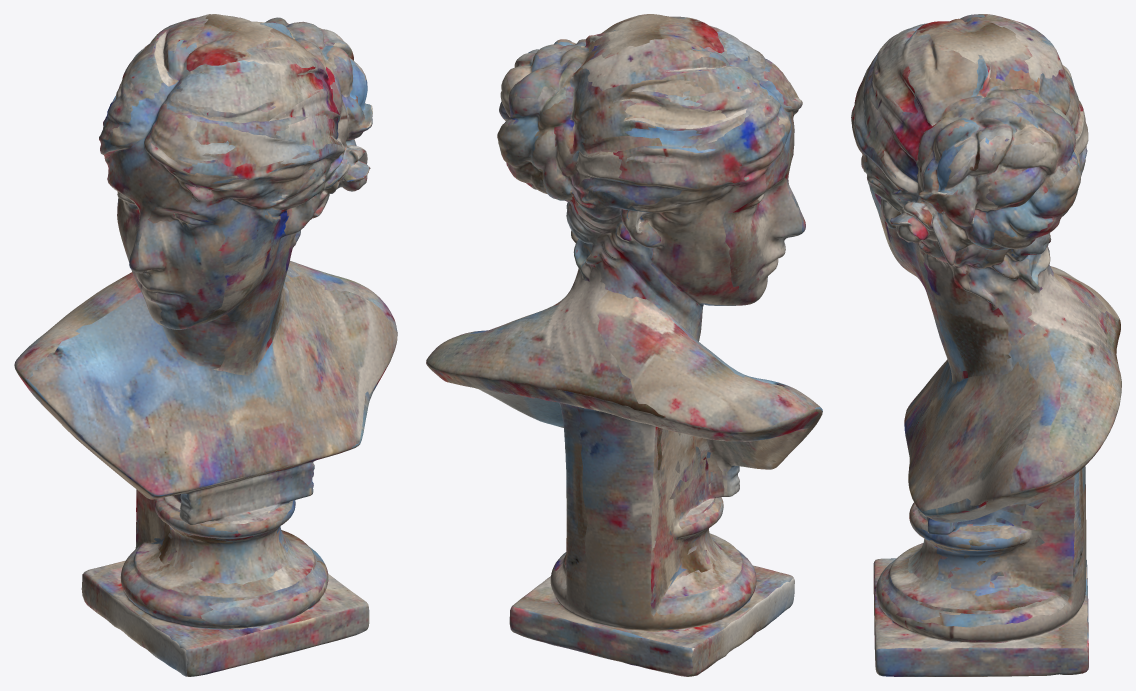
3 renders of one model, left to right at view 1: azimuth 30°, elevation 25°; view 2: azimuth 150°, elevation 25°; view 3: azimuth 270°, elevation 25°, orthographic. The views are drawn at different scales.
Parts seen in each view (by area): view 1: texture_v100.005; view 2: texture_v100.005; view 3: texture_v100.005.
Part boxes in pixels (x1=…): texture_v100.005: x1=14, y1=14, x2=397, y2=676; texture_v100.005: x1=426, y1=14, x2=822, y2=676; texture_v100.005: x1=851, y1=14, x2=1121, y2=676.
Bounding box in the file's own units: 1.32 × 2 × 0.8123.
1 material, 1 textured.
